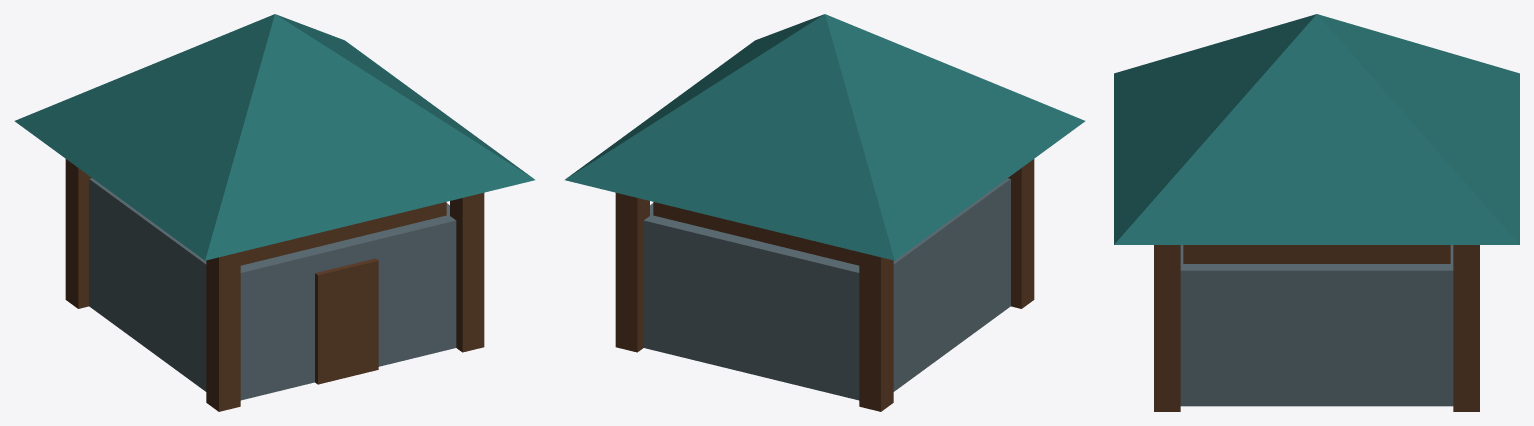
Rendered from outpost.obj.
3 renders of one model, left to right at view 1: azimuth 30°, elevation 25°; view 2: azimuth 150°, elevation 25°; view 3: azimuth 270°, elevation 25°, orthographic. The views are drawn at different scales.
Size of the model in its own units: 3.8 by 3.4 by 3.8.
